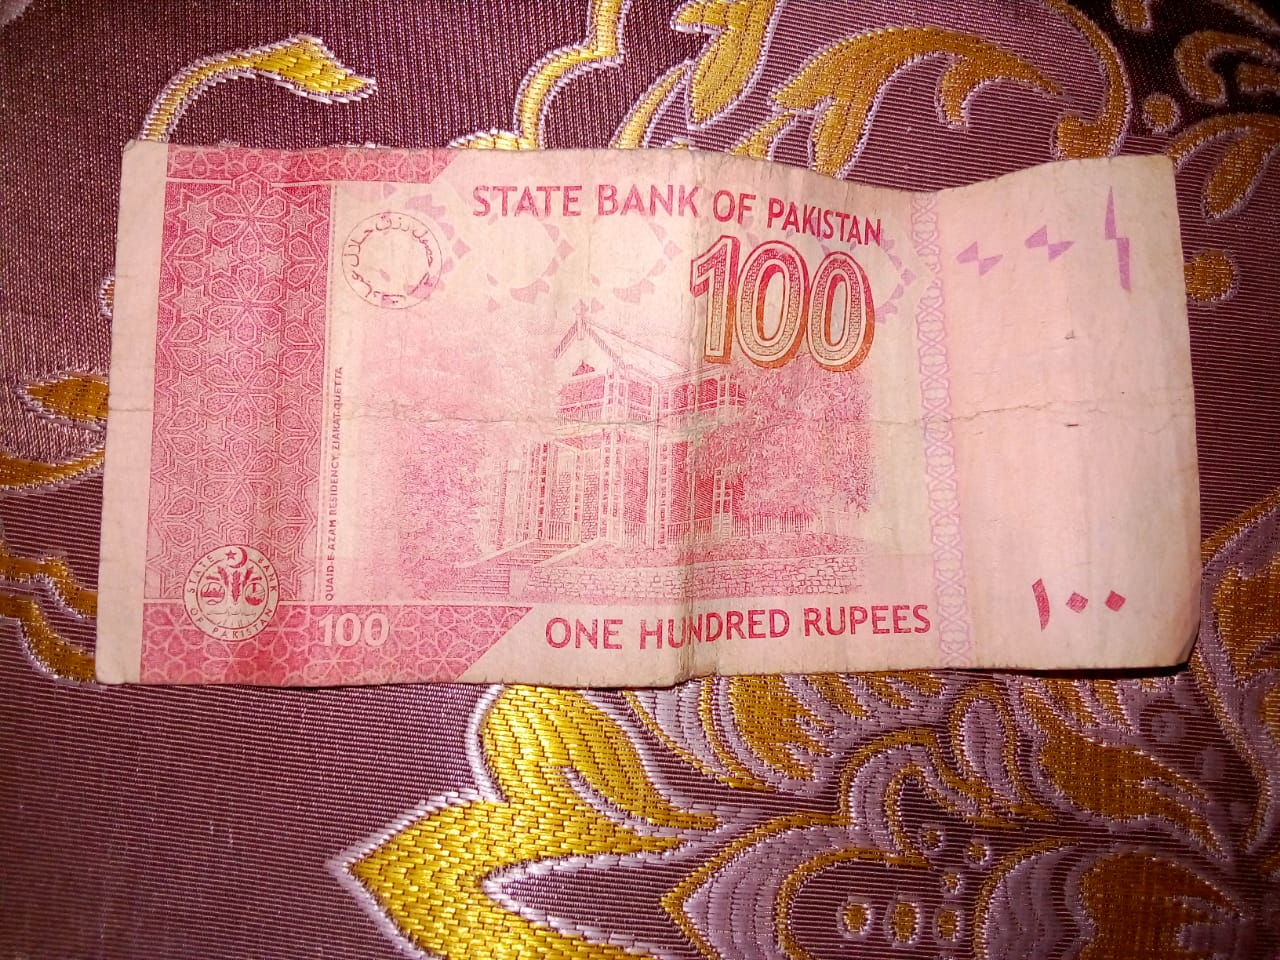100 rupee: (109, 80, 1202, 705)
